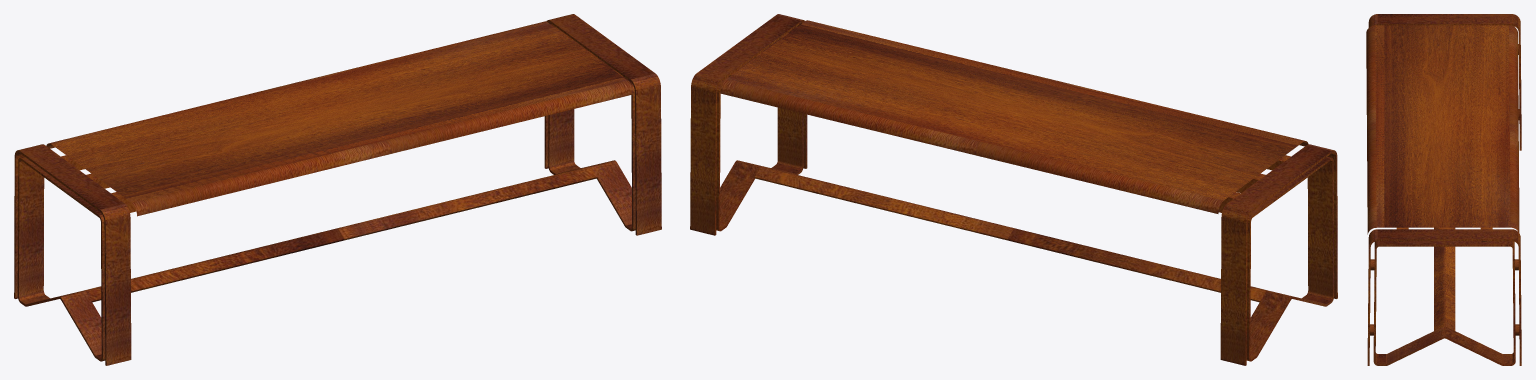
3 renders of one model, left to right at view 1: azimuth 30°, elevation 25°; view 2: azimuth 150°, elevation 25°; view 3: azimuth 270°, elevation 25°, orthographic. The views are drawn at different scales.
Visible parts, largest first — view 1: mesh17_mesh17-geometry, mesh13_mesh13-geometry, mesh10_mesh10-geometry, mesh15_mesh15-geometry, mesh1_mesh1-geometry, mesh16_mesh16-geometry; view 2: mesh17_mesh17-geometry, mesh13_mesh13-geometry, mesh10_mesh10-geometry, mesh16_mesh16-geometry, mesh1_mesh1-geometry, mesh15_mesh15-geometry; view 3: mesh17_mesh17-geometry, mesh13_mesh13-geometry, mesh10_mesh10-geometry, mesh15_mesh15-geometry, mesh16_mesh16-geometry, mesh1_mesh1-geometry, mesh7_mesh7-geometry.
Part boxes in pixels (x1,y1,x2,y2): mesh17_mesh17-geometry: (51, 22, 627, 202); mesh13_mesh13-geometry: (14, 14, 661, 365); mesh10_mesh10-geometry: (17, 26, 635, 361); mesh15_mesh15-geometry: (132, 81, 633, 216); mesh1_mesh1-geometry: (84, 166, 596, 302); mesh16_mesh16-geometry: (46, 21, 546, 148); mesh17_mesh17-geometry: (726, 21, 1303, 200); mesh13_mesh13-geometry: (690, 14, 1337, 365); mesh10_mesh10-geometry: (716, 26, 1334, 361); mesh16_mesh16-geometry: (720, 80, 1223, 213); mesh1_mesh1-geometry: (755, 166, 1267, 302); mesh15_mesh15-geometry: (806, 20, 1308, 146); mesh17_mesh17-geometry: (1375, 25, 1510, 227); mesh13_mesh13-geometry: (1367, 14, 1521, 365); mesh10_mesh10-geometry: (1373, 26, 1515, 365); mesh15_mesh15-geometry: (1366, 25, 1376, 234); mesh16_mesh16-geometry: (1509, 25, 1519, 232); mesh1_mesh1-geometry: (1434, 227, 1455, 330); mesh7_mesh7-geometry: (1370, 44, 1519, 335).
Size of the model in its own units: 0.9311 by 0.2445 by 0.2706.
